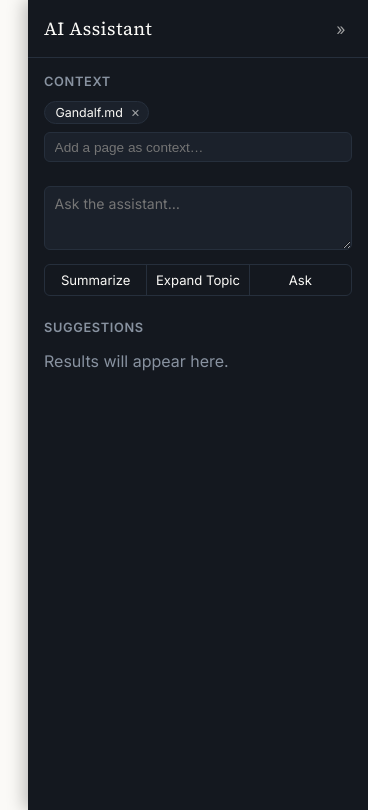
Test: AiAssistantPanel › Delete removes a result card
Expected: the heading "Context" is shown, x1=44 y1=74 x2=111 y2=89
Click the button "Summarize" at point(96, 280), box x1=45 y1=265 x2=147 y2=295
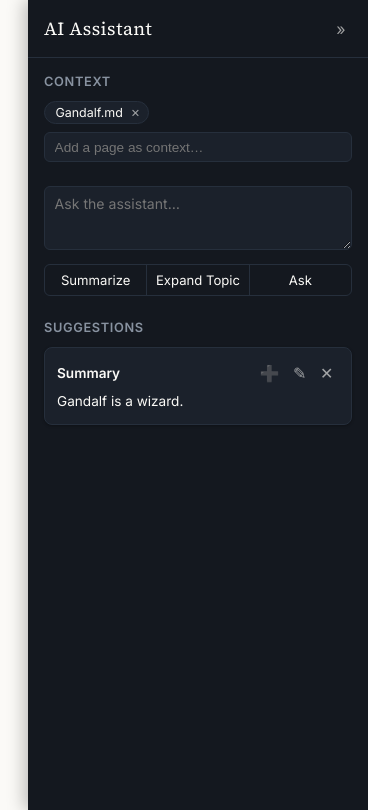
Result: the text "Gandalf is a wizard." is shown at x1=57 y1=393 x2=183 y2=409
Click the button named "Delete" at point(327, 372), box x1=314 y1=360 x2=339 y2=385
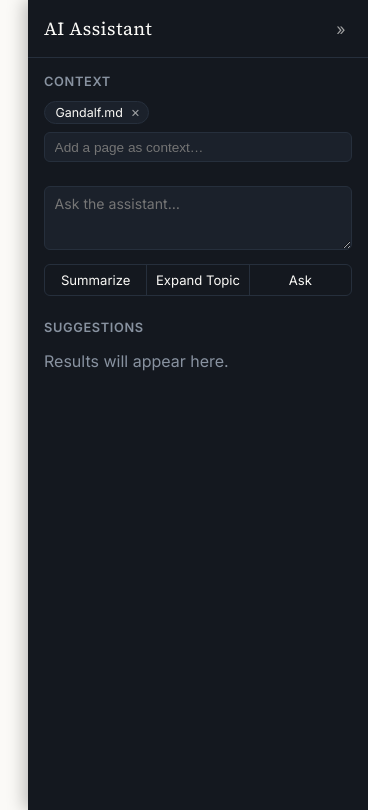
Result: the text "Gandalf is a wizard." is gone
